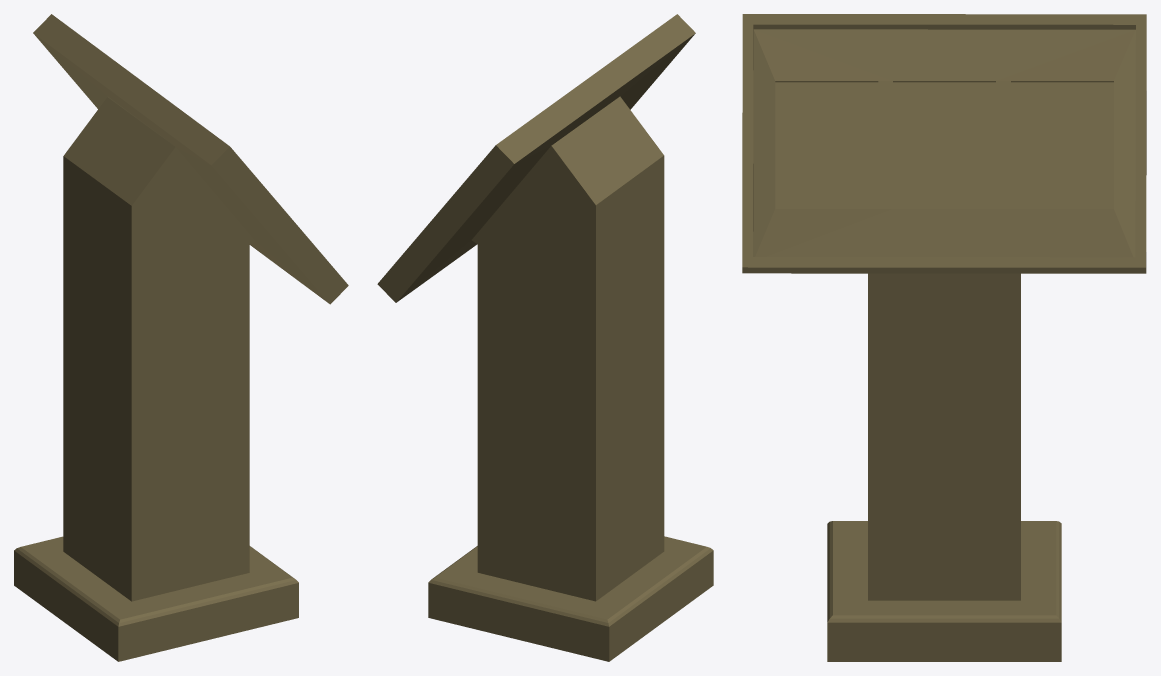
Rendered from ngc do puzzle.fbx.
3 views of the same model, side by side, from view 1: azimuth 30°, elevation 25°; view 2: azimuth 150°, elevation 25°; view 3: azimuth 270°, elevation 25° (orthographic). The views are drawn at different scales.
Parts seen in each view (by area): view 1: Cube.001; view 2: Cube.001; view 3: Cube.001.
Boxes of the visible parts, x1=… form: Cube.001: x1=14, y1=14, x2=348, y2=661; Cube.001: x1=377, y1=14, x2=713, y2=661; Cube.001: x1=742, y1=14, x2=1146, y2=661.
Bounding box in the file's own units: 345 × 894 × 556.
